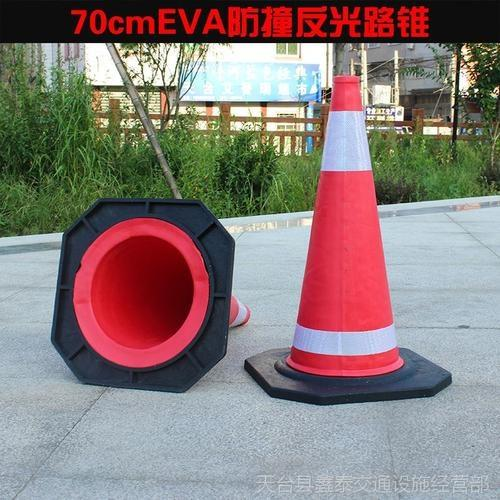cone_barrel: (276, 76, 413, 391)
